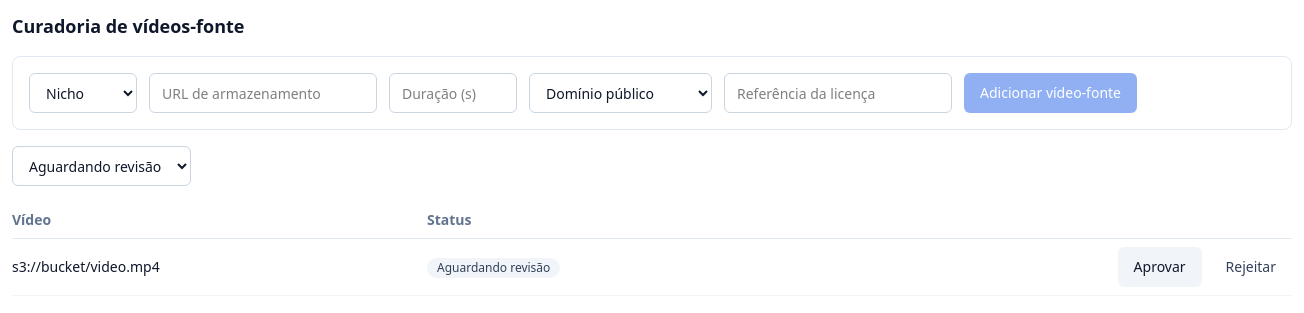
Test: SourceVideoCuration › should reject a pending source video
This screenshot has width=1304, height=313.
expect the text "s3://bucket/video.mp4" is shown: met, box 12,238 -> 427,296
What coordinates should you click on to do the following:
click the button "Rejeitar"
I would click on:
 (1251, 267)
Its box is 1210,247 -> 1292,287.
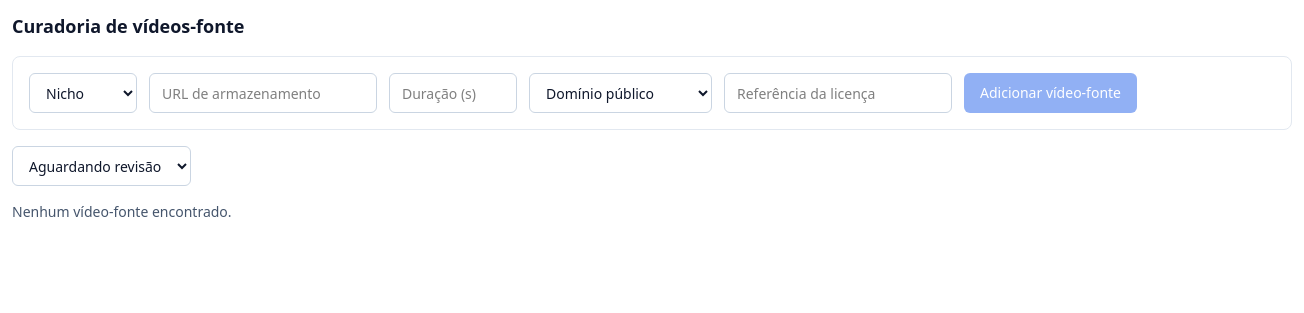
expect the text "s3://bucket/video.mp4" is gone: met
